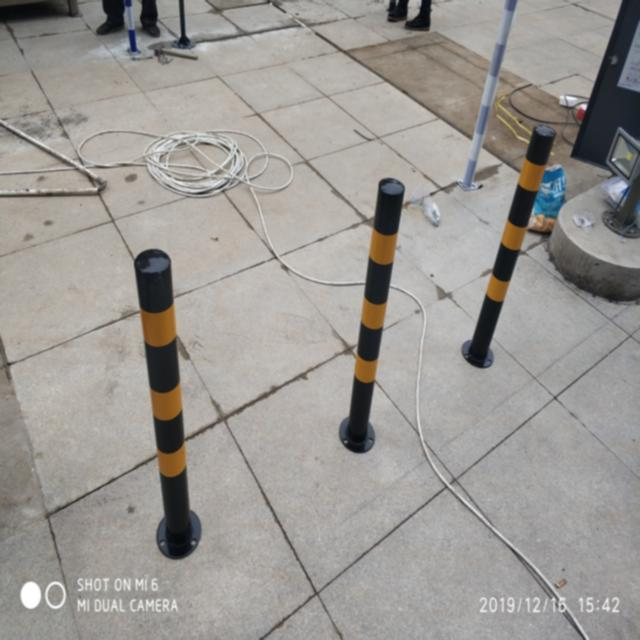warning_column: (463, 121, 557, 368), (133, 249, 203, 559), (337, 173, 405, 454)
